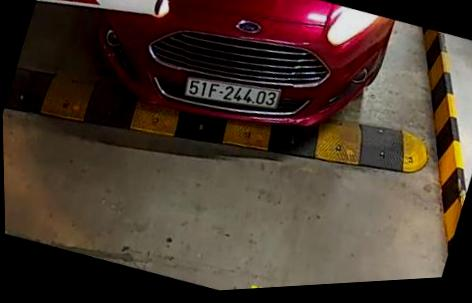License_Plate: (181, 66, 287, 124)
